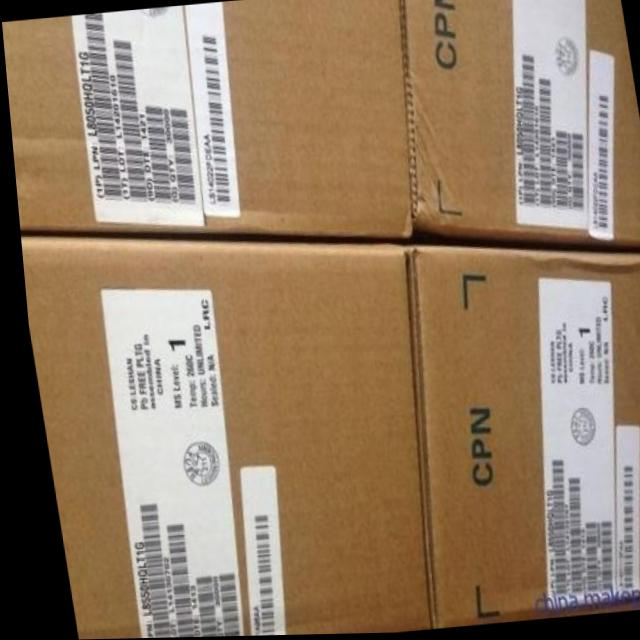box: (17, 236, 421, 640), (2, 0, 410, 244), (406, 245, 640, 628), (404, 0, 640, 253)
